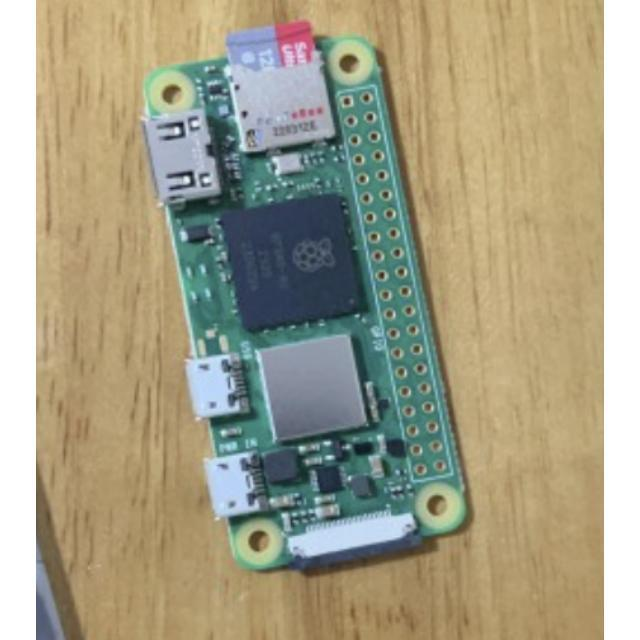Raspberry-Pi-Zero-2-W: (143, 24, 468, 571)
